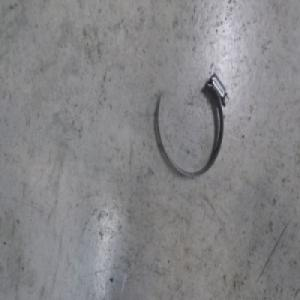AdjustableClamp: (154, 71, 229, 182)
